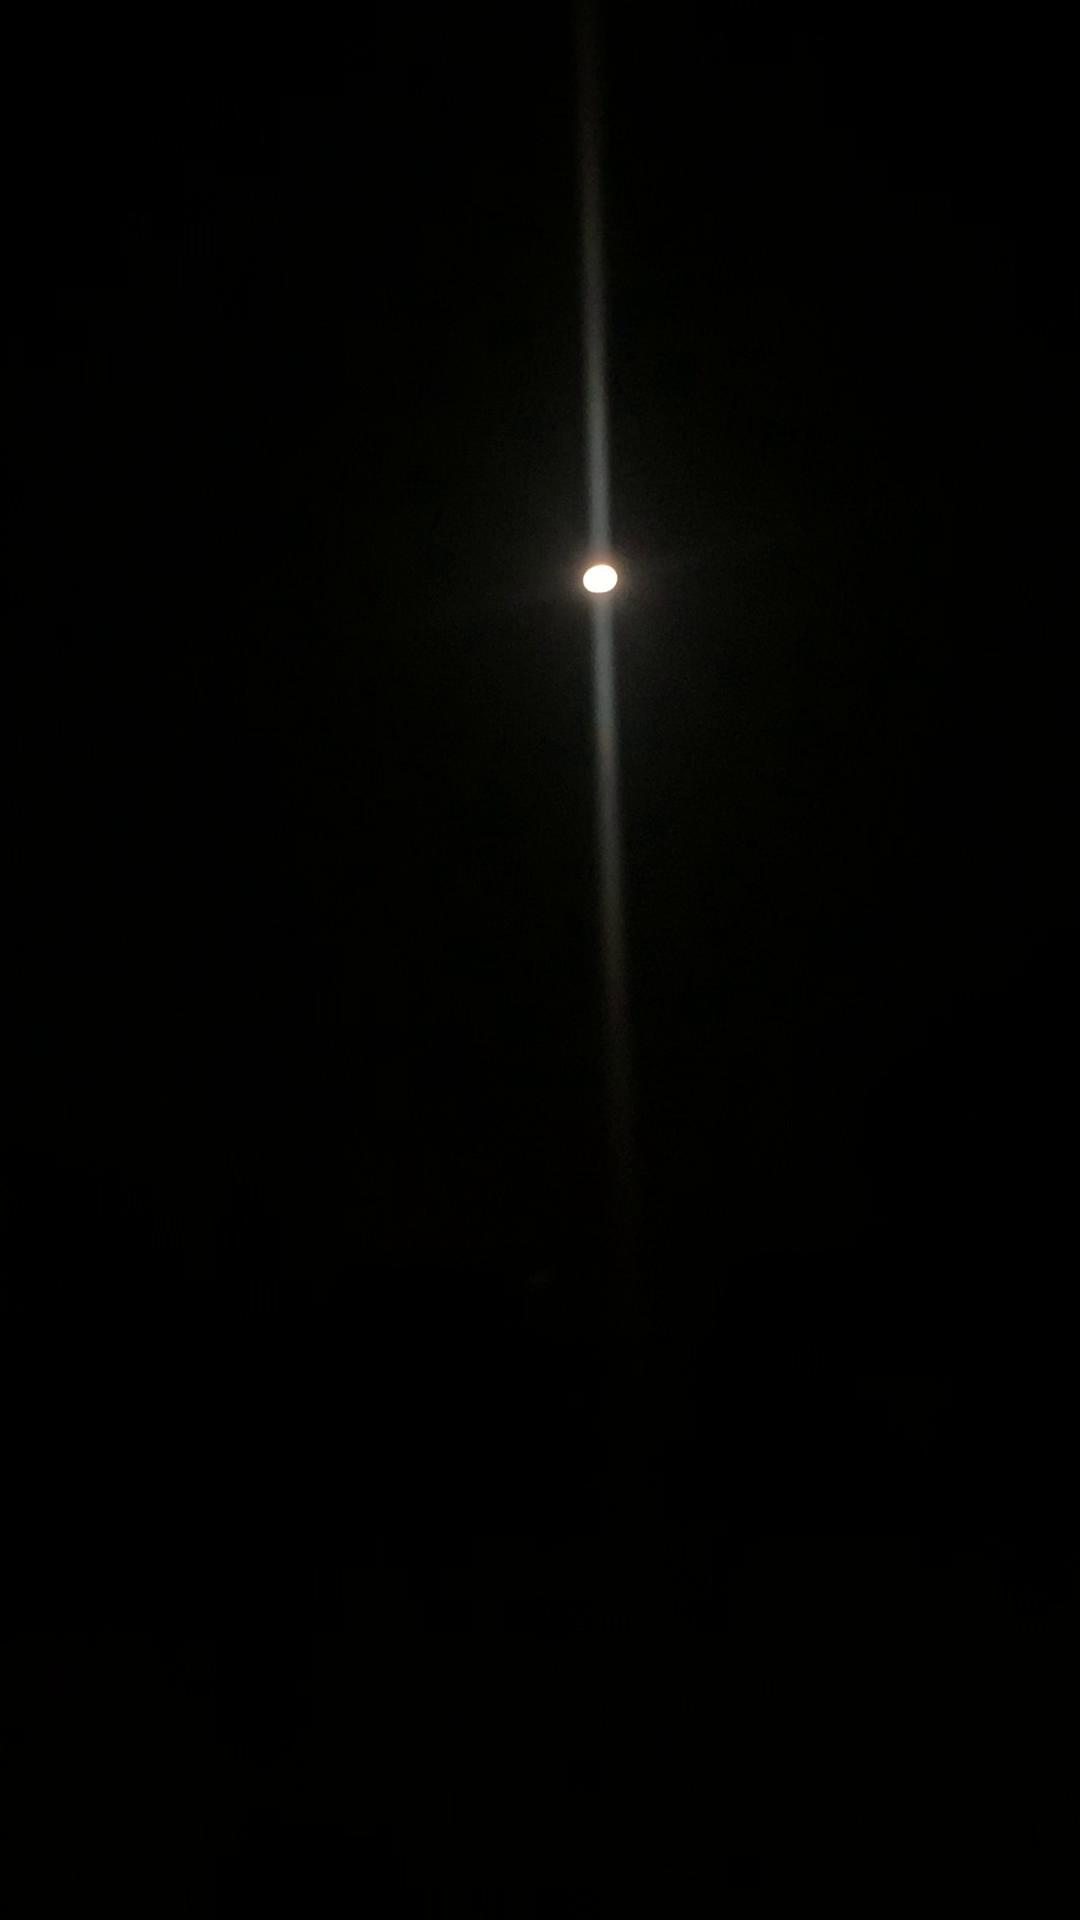moon: (541, 527, 647, 626)
